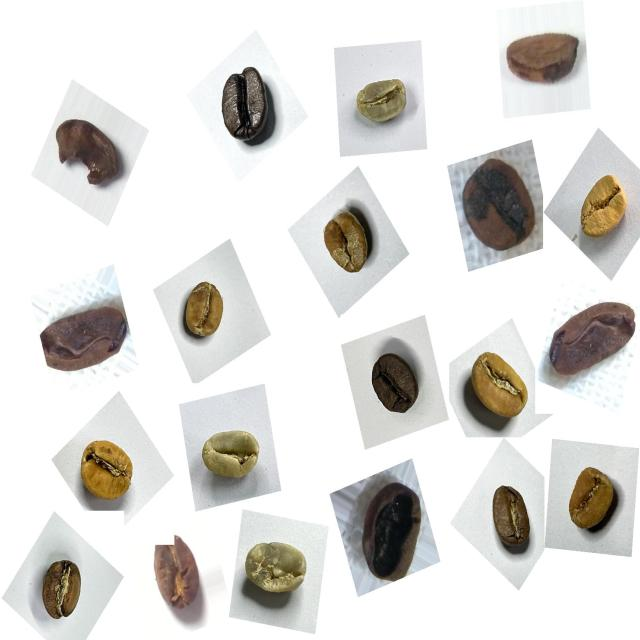bad: (453, 148, 545, 265), (350, 472, 435, 593), (542, 291, 637, 395), (30, 292, 131, 389), (501, 13, 587, 98), (46, 109, 127, 199), (149, 530, 210, 615)
dark: (208, 56, 286, 158)
green: (235, 524, 318, 616), (193, 417, 271, 498), (346, 65, 417, 138)
light: (456, 341, 534, 432), (557, 456, 627, 546), (68, 428, 141, 509), (574, 164, 640, 253), (314, 201, 381, 285), (175, 271, 237, 349)
medium: (360, 345, 427, 429), (478, 477, 539, 562), (32, 552, 94, 631)
